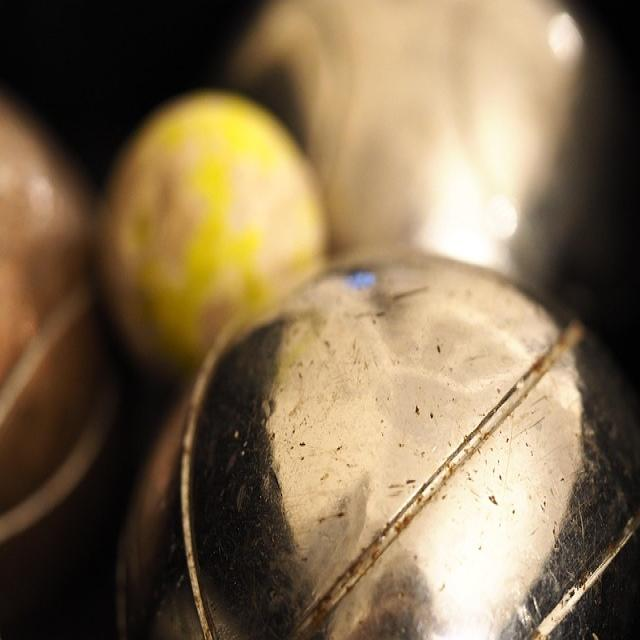hatball: (89, 99, 326, 380)
petanque: (108, 245, 639, 639), (213, 0, 639, 368), (0, 102, 130, 628)
